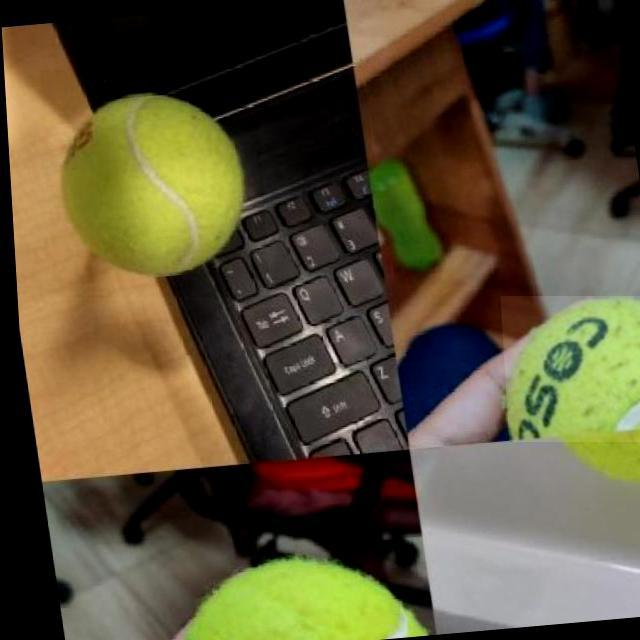-: (39, 70, 266, 297), (497, 296, 640, 442)
